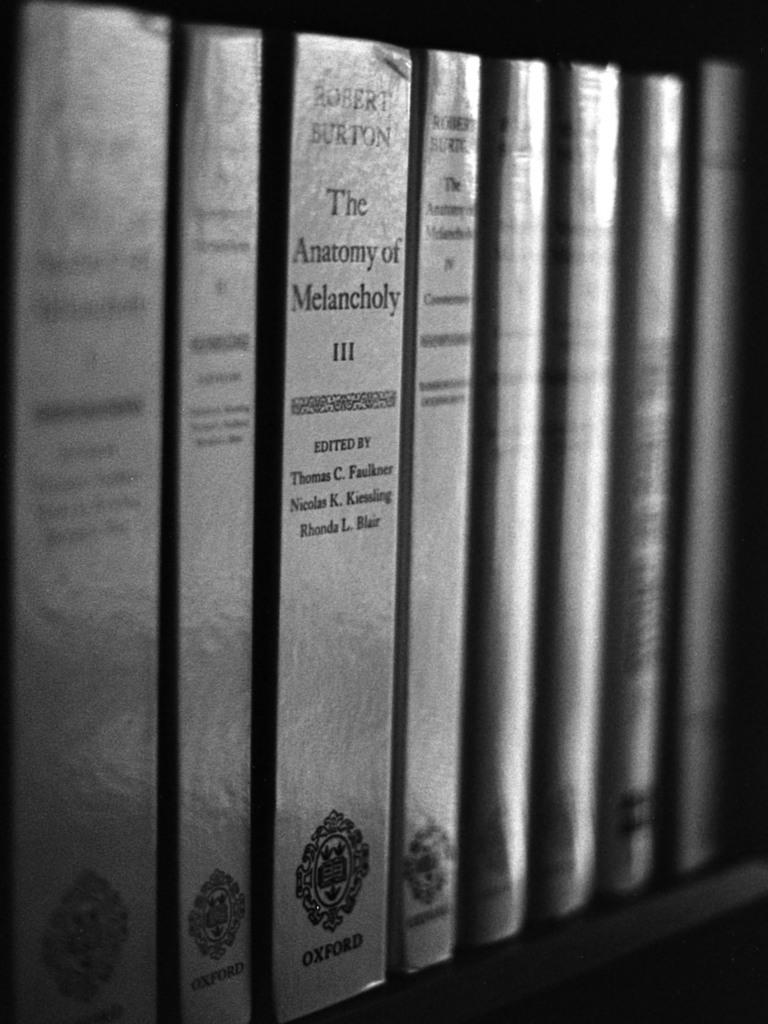Book: (2, 2, 766, 1021)
